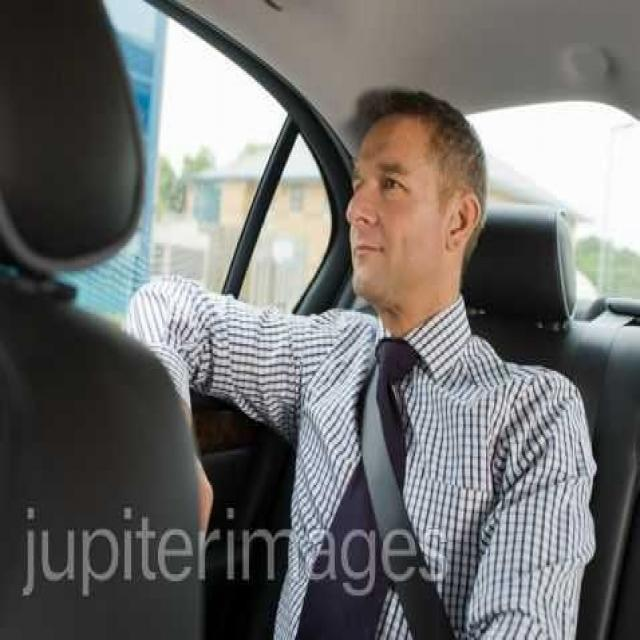seatbelt: (336, 346, 449, 610)
